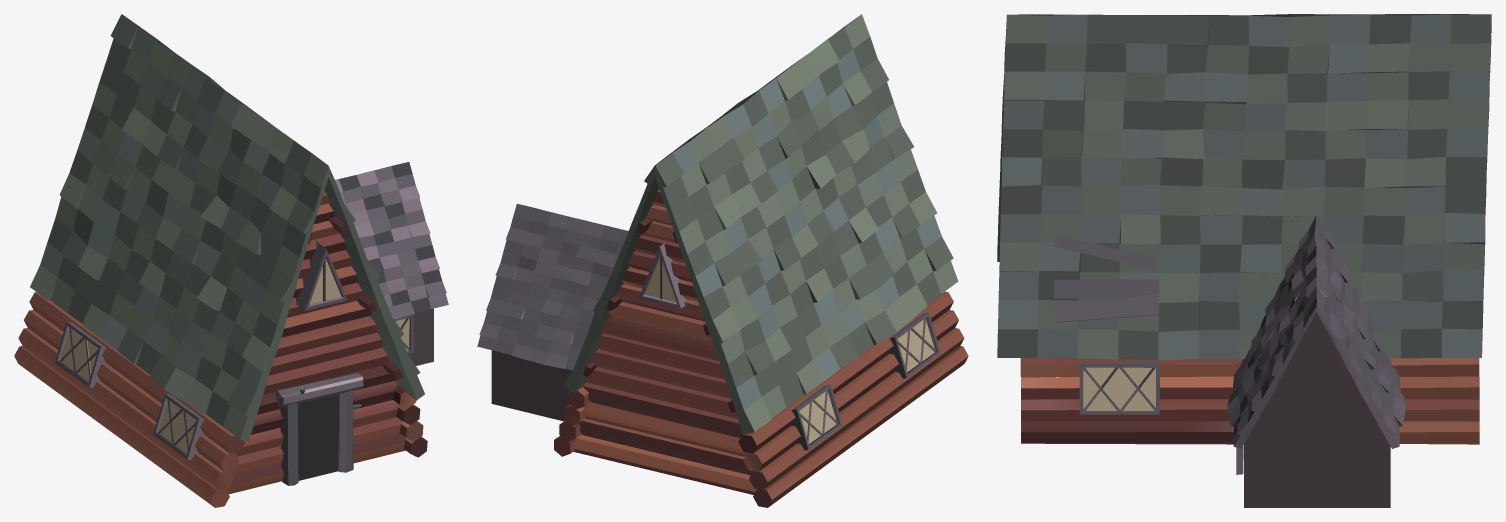
Rendered from domek starucha.fbx.
The picture shows the model from 3 angles, left to right: view 1: azimuth 30°, elevation 25°; view 2: azimuth 150°, elevation 25°; view 3: azimuth 270°, elevation 25°; orthographic projection. The views are drawn at different scales.
Parts seen in each view (by area): view 1: F_domek_01; view 2: F_domek_01; view 3: F_domek_01.
Part boxes in pixels (x1=…): F_domek_01: x1=14, y1=14, x2=448, y2=507; F_domek_01: x1=477, y1=14, x2=968, y2=507; F_domek_01: x1=997, y1=14, x2=1491, y2=507.
Size of the model in its own units: 277 by 258 by 308.
